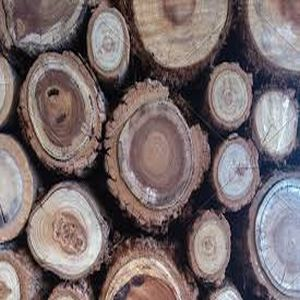log: (102, 76, 207, 233), (19, 50, 106, 177), (119, 1, 240, 79), (23, 180, 110, 283), (241, 168, 300, 297), (97, 245, 194, 300), (210, 132, 261, 211), (184, 208, 235, 286), (205, 62, 256, 134), (251, 85, 300, 159), (89, 8, 133, 82)
